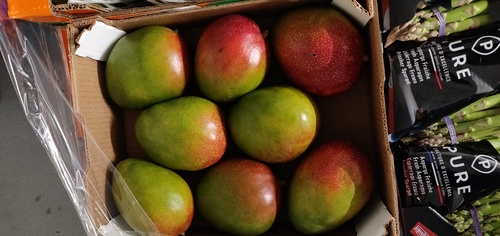mangue: (272, 3, 376, 94), (274, 143, 376, 231), (90, 21, 190, 107), (97, 157, 202, 235), (181, 158, 284, 236), (188, 10, 273, 103), (126, 95, 227, 167), (226, 88, 323, 161)
